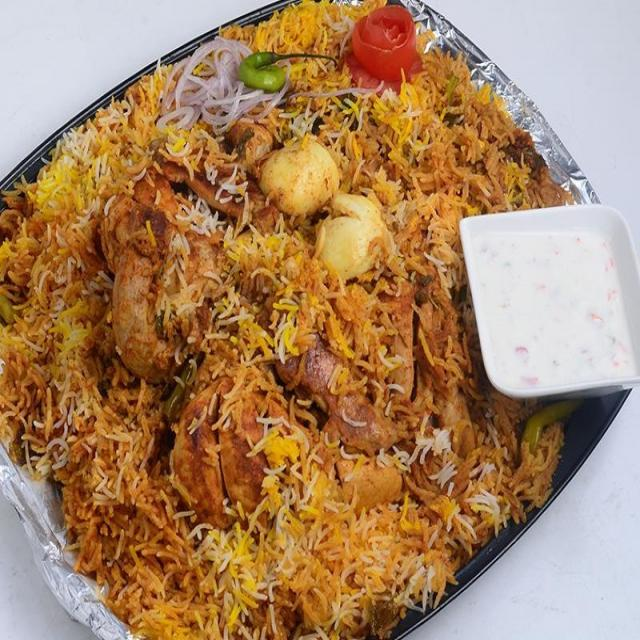Biryani: (0, 10, 593, 639)
